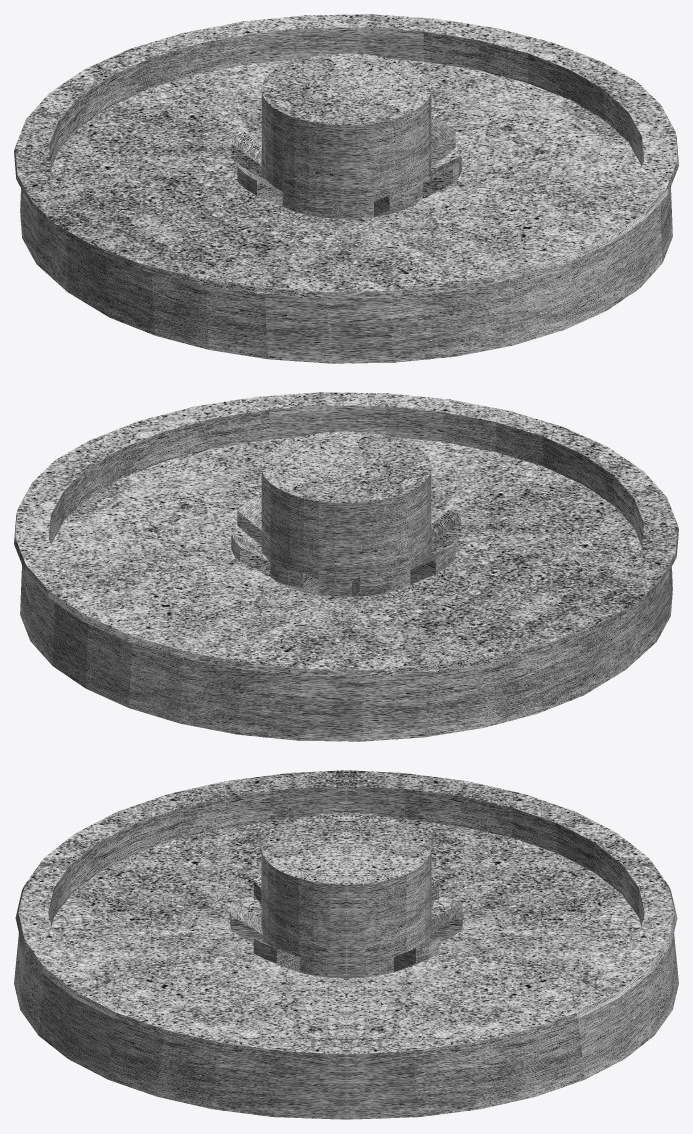
The model's file is fountain.fbx.
3 renders of one model, top to bottom at view 1: azimuth 30°, elevation 25°; view 2: azimuth 150°, elevation 25°; view 3: azimuth 270°, elevation 25°, orthographic.
Parts seen in each view (by area): view 1: fountain; view 2: fountain; view 3: fountain.
Boxes of the visible parts, bbox=[...] form: fountain: bbox=[14, 14, 678, 363]; fountain: bbox=[14, 392, 678, 741]; fountain: bbox=[14, 770, 678, 1119].
Size of the model in its own units: 923 by 204 by 913.
